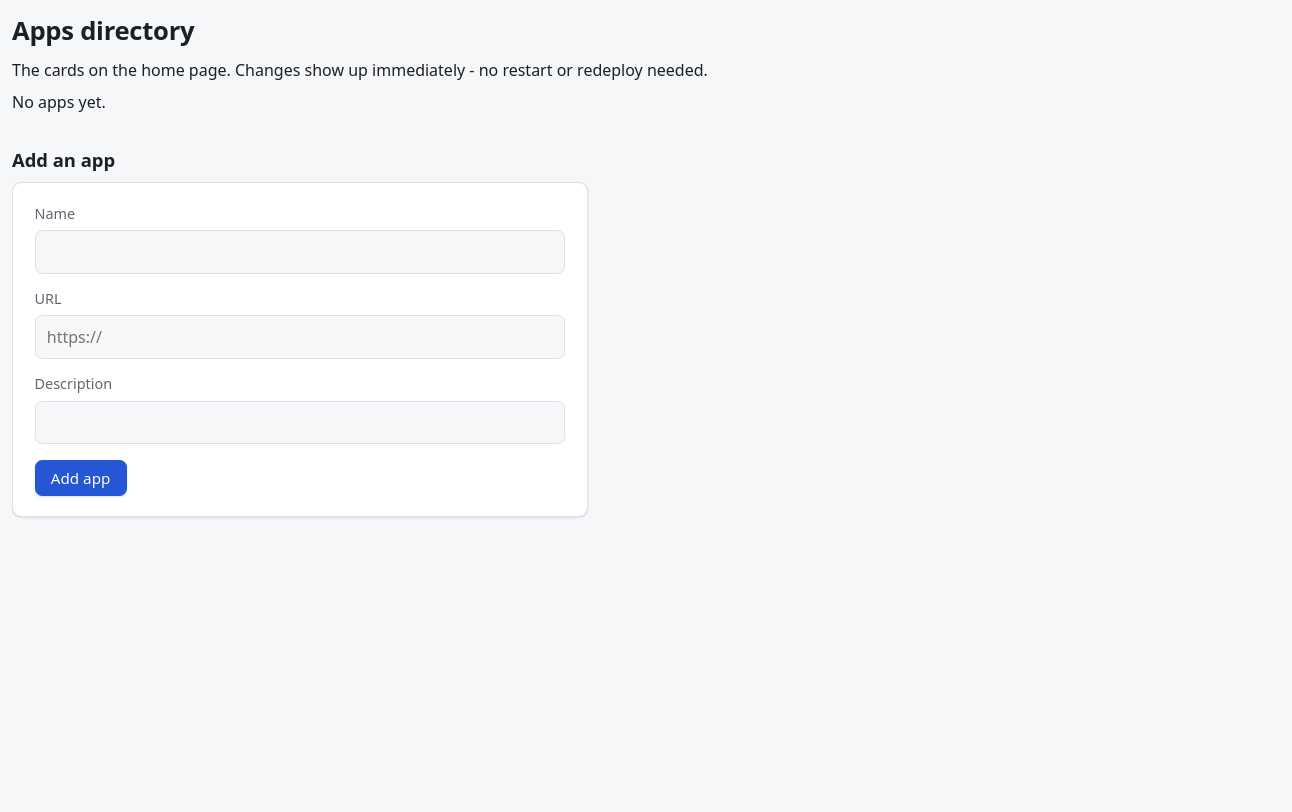
Test: AdminApps › shows the server error when a save is rejected
Check: the text "No apps yet." is shown, box [12,91,106,113]
In the field labelled "Name": point(300, 252) [35,230,565,274], type "Bad"
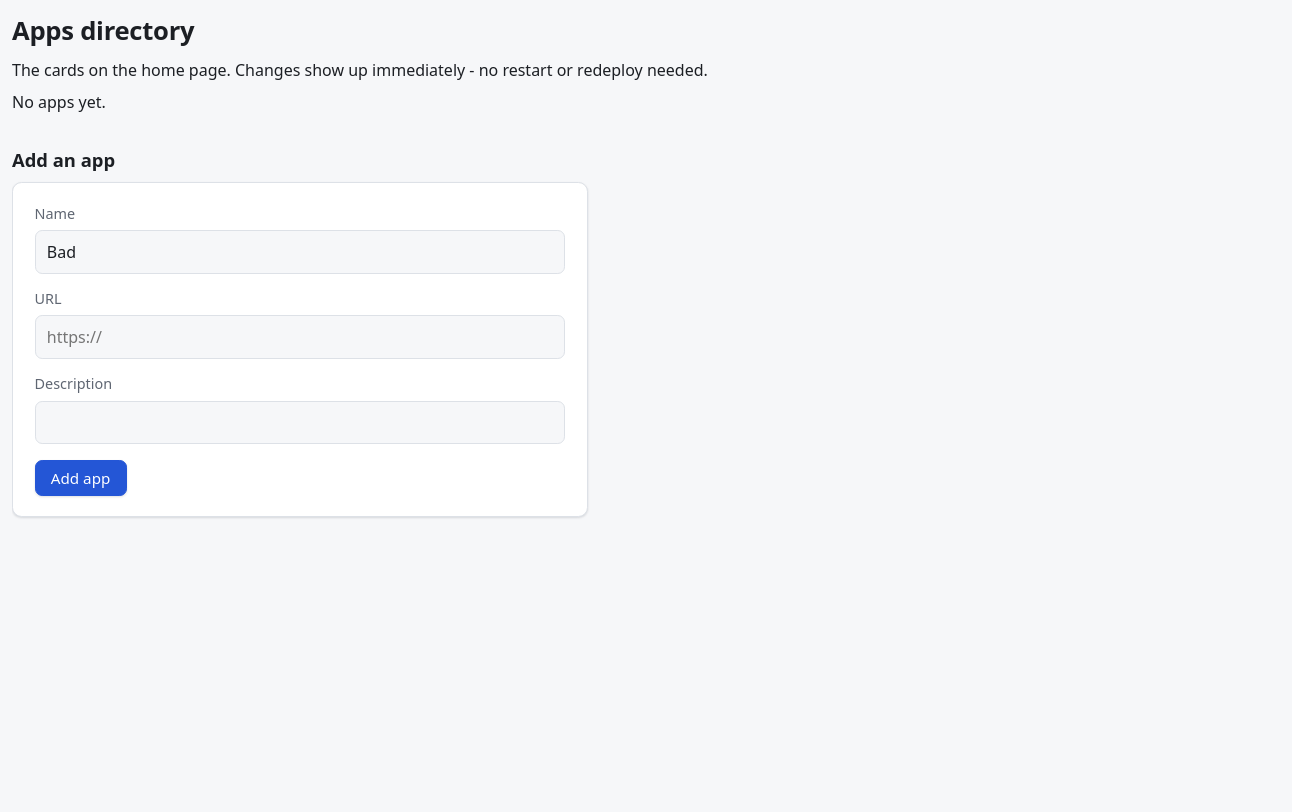
In the field labelled "URL": point(300, 337) [35,315,565,359], type "https://bad.example.com"
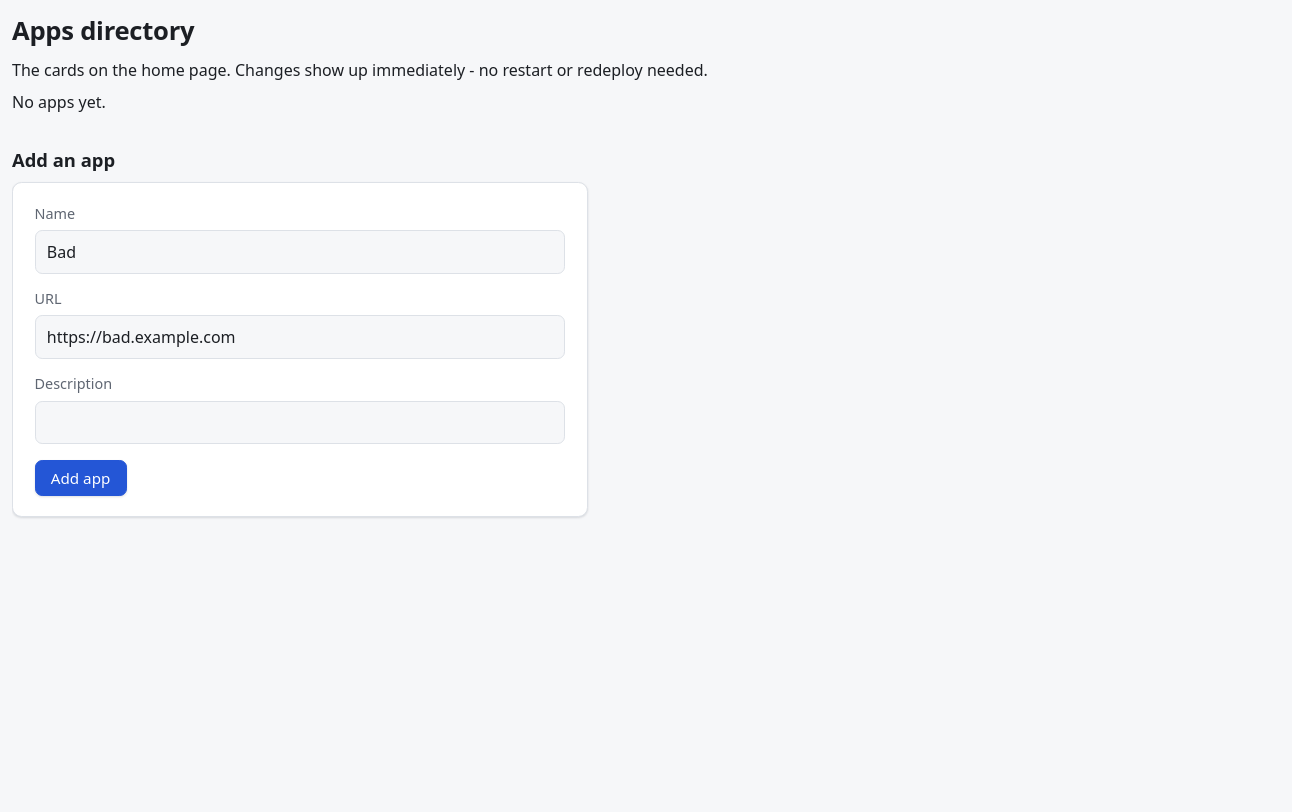
Click the button "Add app": point(81, 478) [35,460,126,496]
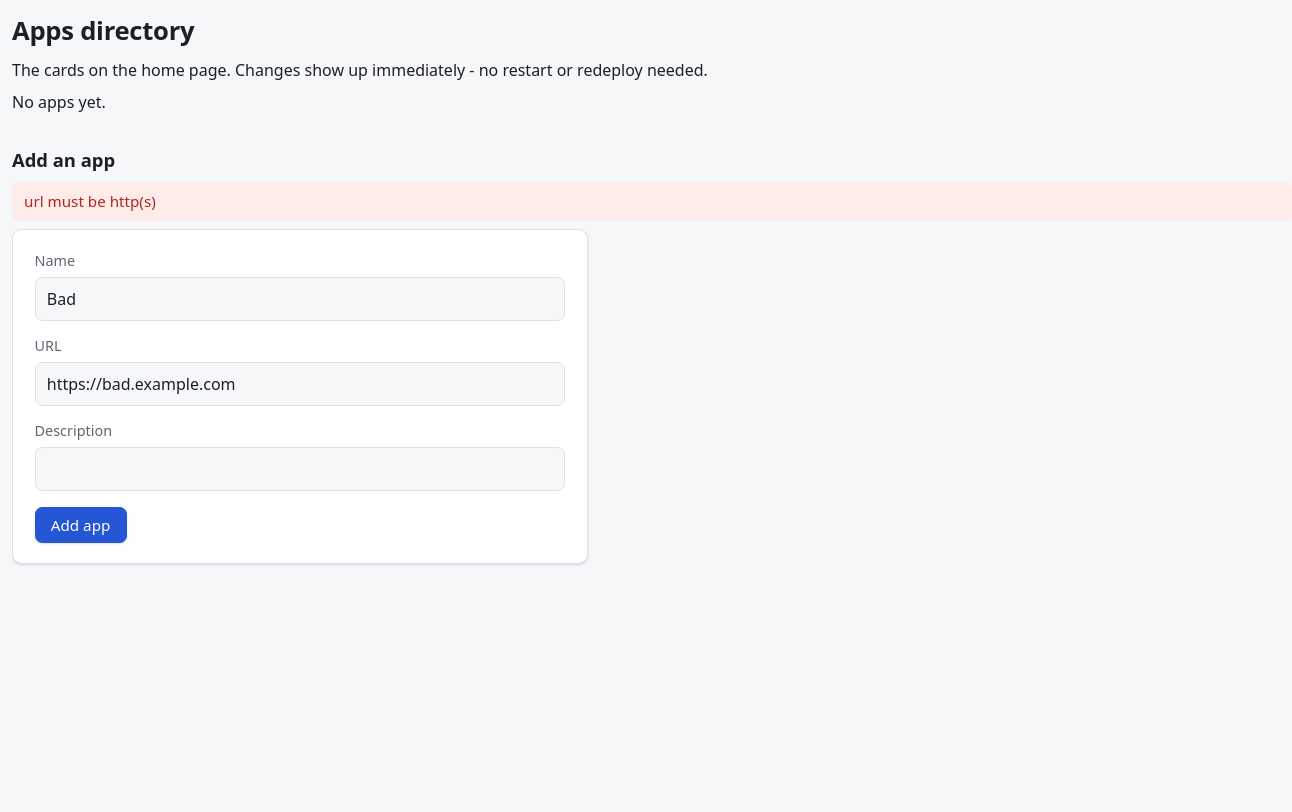
Check: the text "url must be http(s)" is shown, box [12,182,1291,221]
